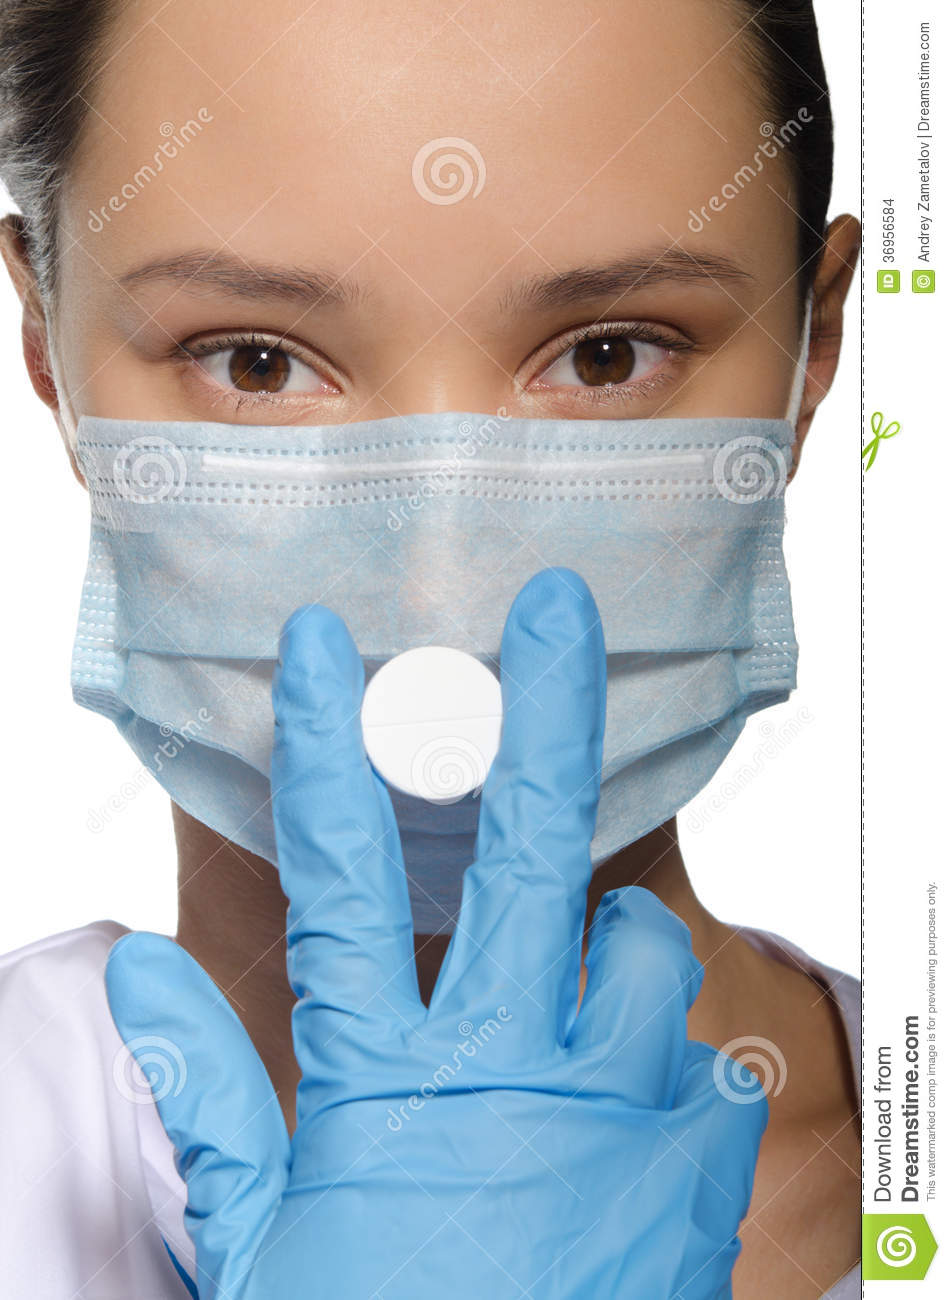mask: (77, 411, 797, 941)
